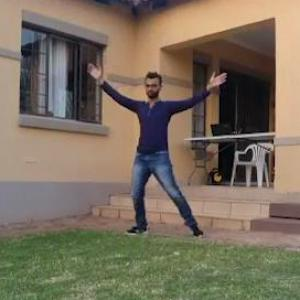takeoff: (86, 66, 232, 242)
